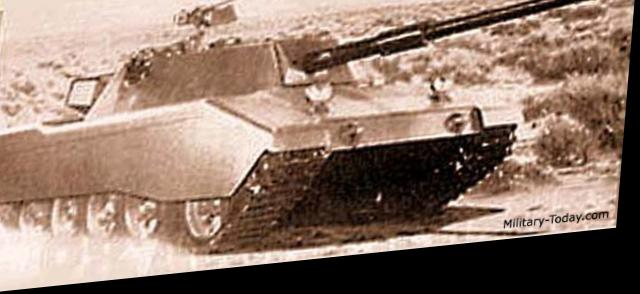tank: (0, 0, 523, 266)
